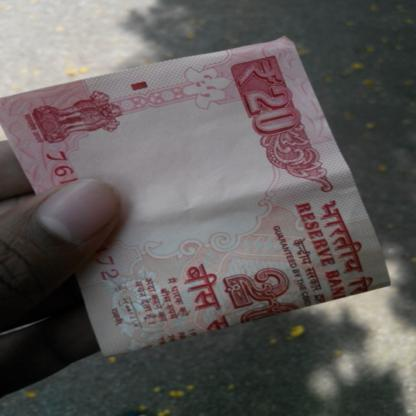Old20Front: (17, 55, 374, 341)
